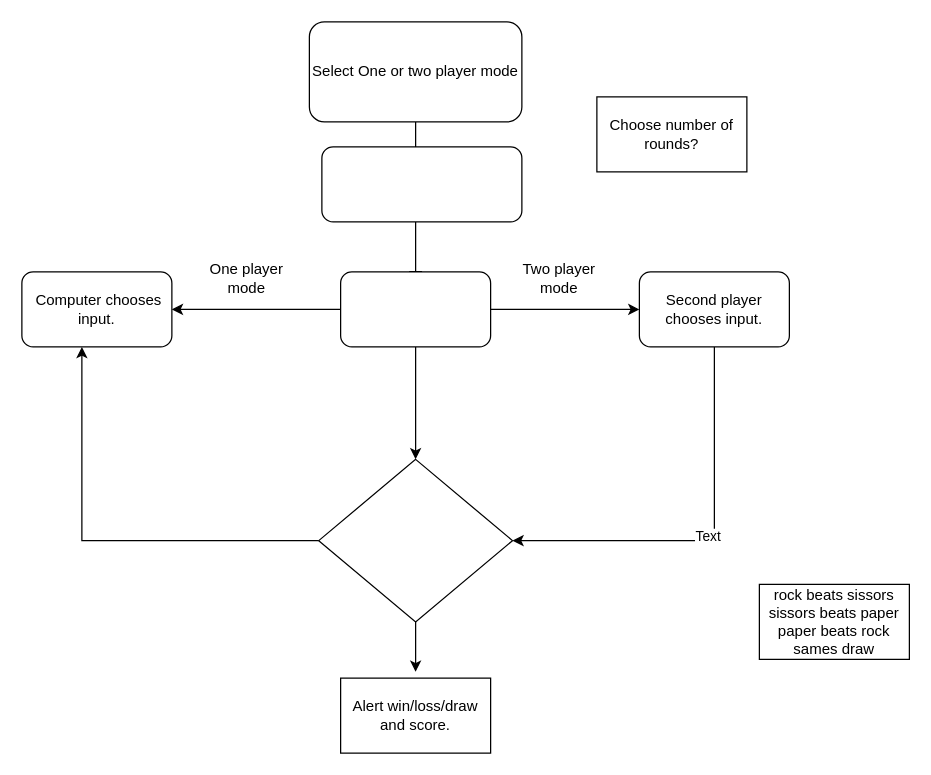
Image size: 931x775. Some labels were removed from this diagram. The centre of each missing label's shape, as x and y in pixels:
Code to see who wins: (x=415, y=540)
Input Player/Players names.: (x=421, y=184)
One player chooses input.: (x=415, y=309)
